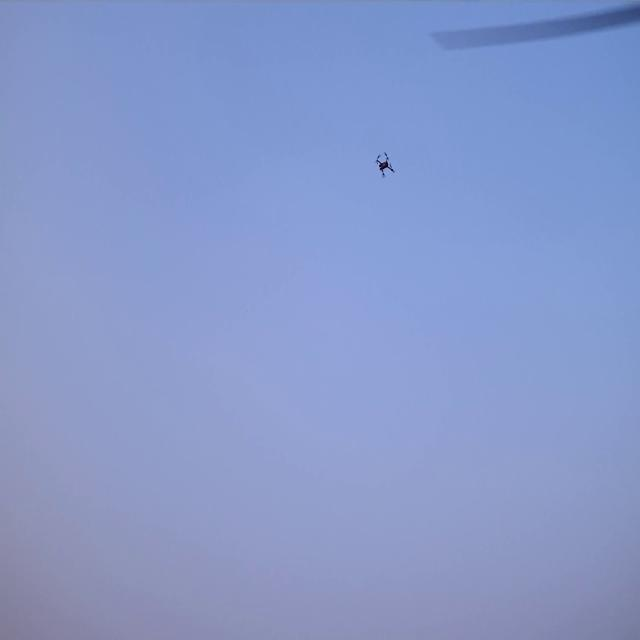UAV: (376, 154, 393, 176)
